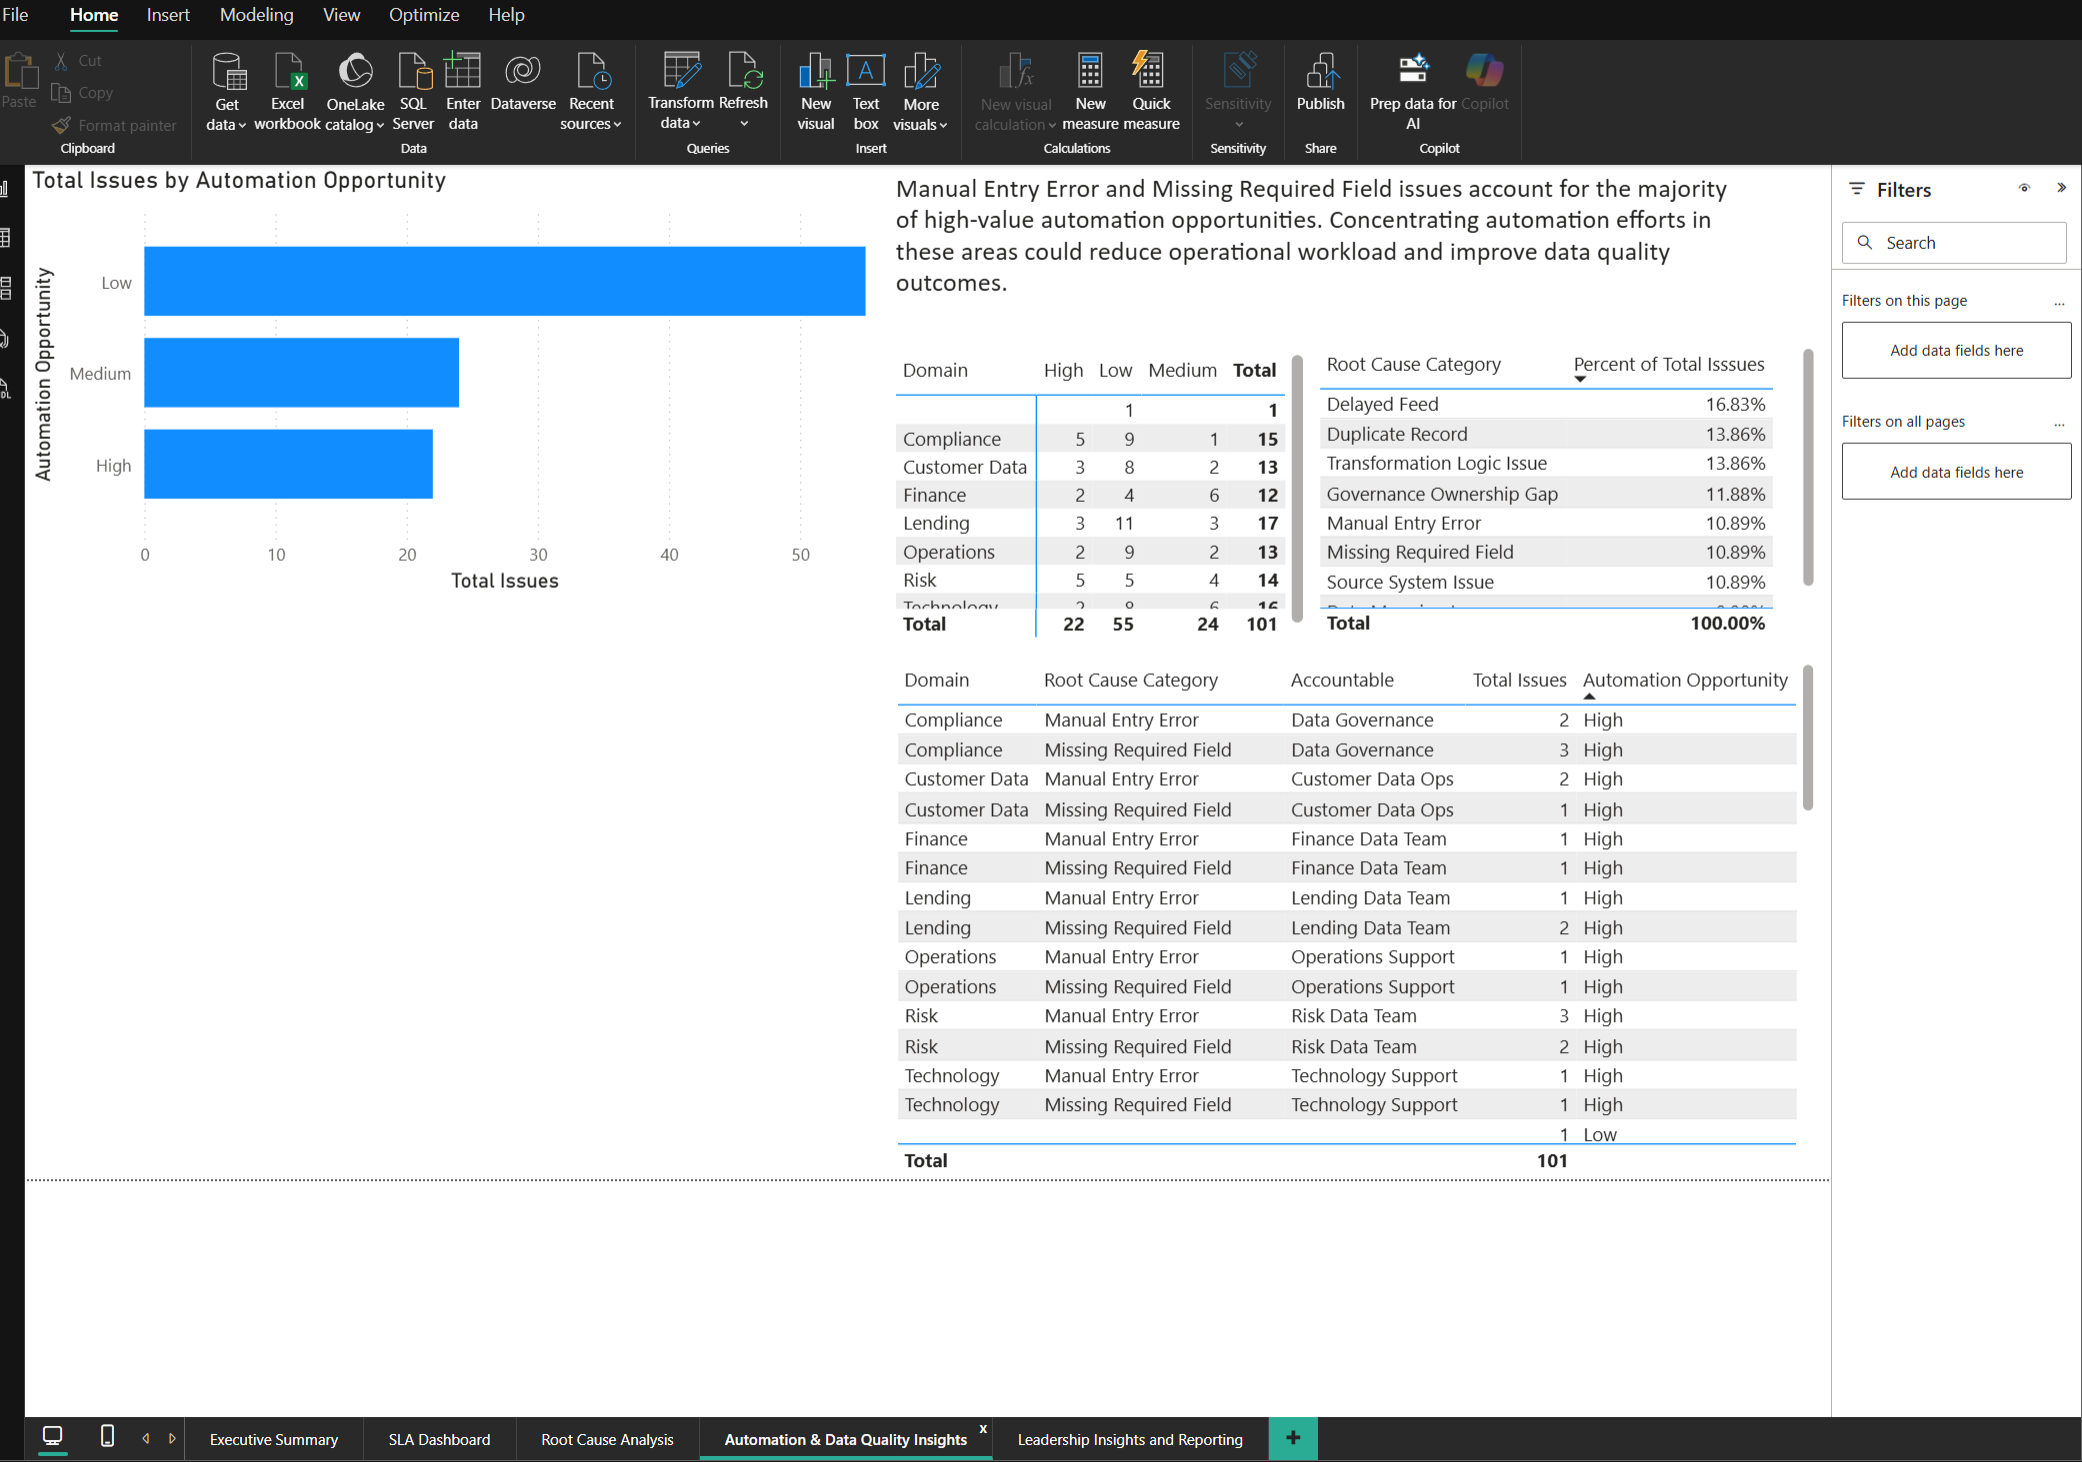

The page's visual inventory and layout, read from the dashboard file:
{"tool":"powerbi","page":{"name":"Automation & Data Quality Insights","canvas":[1280,720],"ordinal":3},"visuals":[{"type":"clusteredBarChart","fields":{"Category":["Data Problems.Automation Opportunity"],"Y":["Data Problems.Total Issues"]},"box":[0,0,607.9,308.2],"z":0},{"type":"pivotTable","fields":{"Rows":["Data Problems.Domain"],"Columns":["Data Problems.Automation Opportunity"],"Values":["Data Problems.Total Issues"]},"box":[612.5,128.9,299.1,210.7],"z":1000},{"type":"tableEx","fields":{"Values":["Data Problems.Root Cause Category","Data Problems.Percent of Total Isssues"]},"box":[911.6,125,361.9,214.6],"z":2000},{"type":"tableEx","fields":{"Values":["Data Problems.Domain","Data Problems.Root Cause Category","Data Problems.Accountable","Data Problems.Total Issues","Data Problems.Automation Opportunity"]},"box":[612.5,348.8,660.9,371],"z":3000},{"type":"textbox","box":[612.5,0,611.2,125],"z":4000}]}

Visuals, with their boxes on the page's 1280x720 design canvas (x1, y1, x2, y2). These are canvas units, not pixel positions in the 2082x1462 screenshot, which may show the page scaled, cropped or inside an application window:
clusteredBarChart - Data Problems.Automation Opportunity x Data Problems.Total Issues: [left=0, top=0, right=608, bottom=308]
pivotTable - Data Problems.Domain x Data Problems.Automation Opportunity: [left=612, top=129, right=912, bottom=340]
tableEx - Data Problems.Root Cause Category x Data Problems.Percent of Total Isssues: [left=912, top=125, right=1274, bottom=340]
tableEx - Data Problems.Domain x Data Problems.Root Cause Category: [left=612, top=349, right=1273, bottom=720]
textbox: [left=612, top=0, right=1224, bottom=125]
